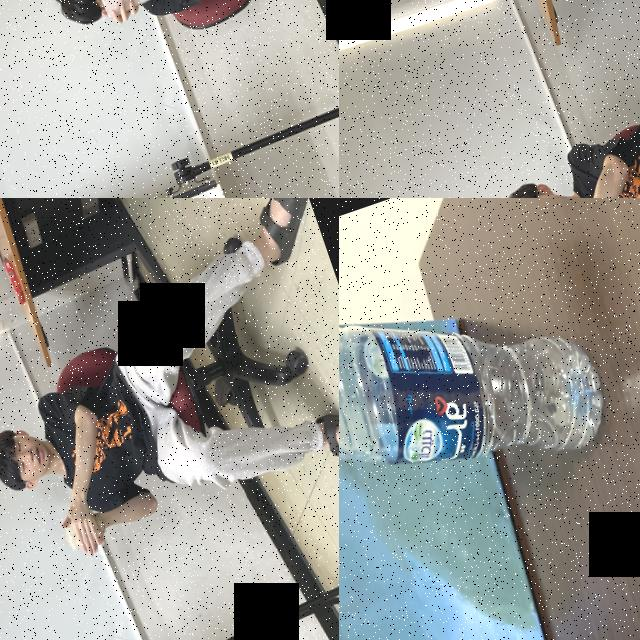bottle: (339, 246, 624, 558)
cup: (59, 505, 110, 553)
